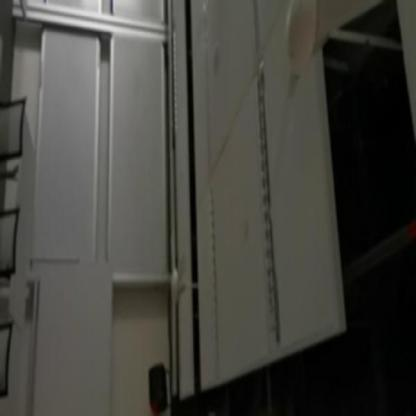light_off: (252, 42, 284, 353), (207, 176, 224, 370)
